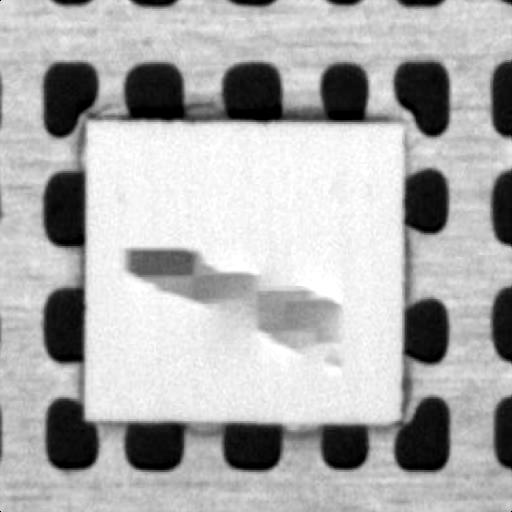DIE_INK: (153, 170, 459, 291)
